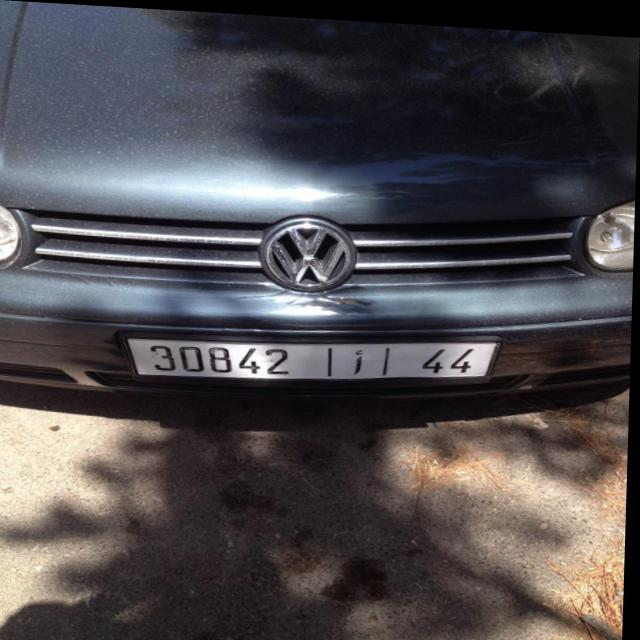License-Plate: (129, 335, 501, 376)
